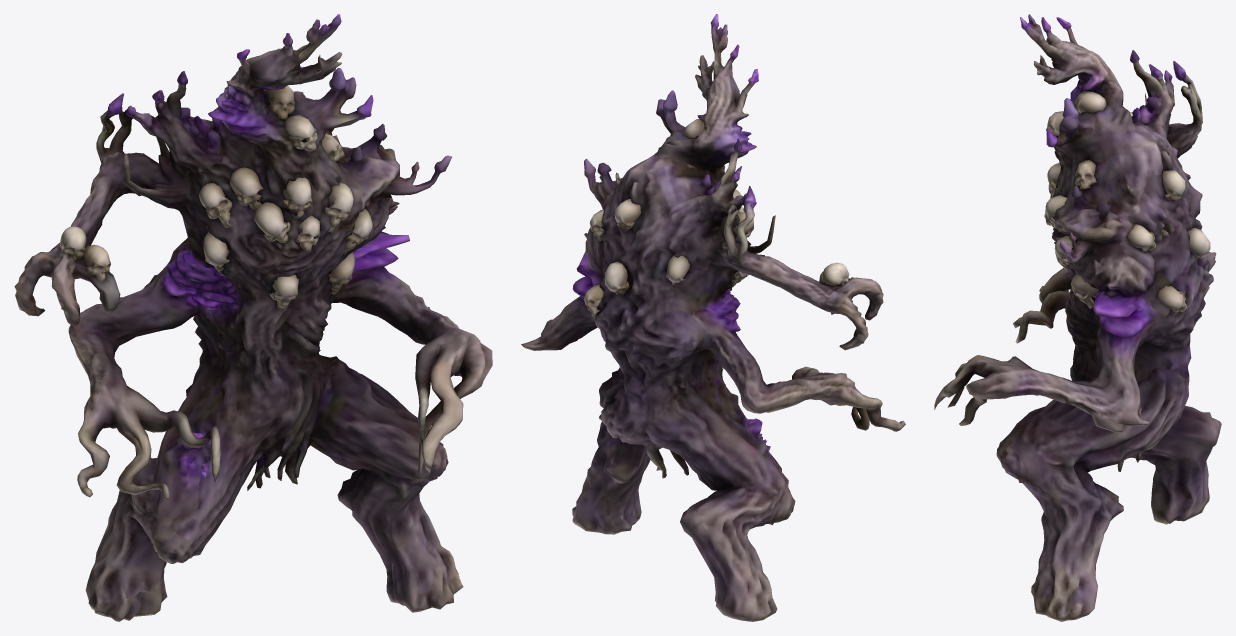
File: MZ4250 - Violet Fungus Necrohulk_2025.glb
3 views of the same model, side by side, from view 1: azimuth 30°, elevation 25°; view 2: azimuth 150°, elevation 25°; view 3: azimuth 270°, elevation 25° (orthographic). The views are drawn at different scales.
Visible parts, largest first — view 1: ORGANIC BASE SPHERE.001; view 2: ORGANIC BASE SPHERE.001; view 3: ORGANIC BASE SPHERE.001.
Boxes of the visible parts, x1=… form: ORGANIC BASE SPHERE.001: x1=14, y1=14, x2=492, y2=621; ORGANIC BASE SPHERE.001: x1=521, y1=14, x2=905, y2=621; ORGANIC BASE SPHERE.001: x1=934, y1=14, x2=1221, y2=621.
Bounding box in the file's own units: 117 × 171 × 80.63.
Materials: 1 (1 with a texture image).
